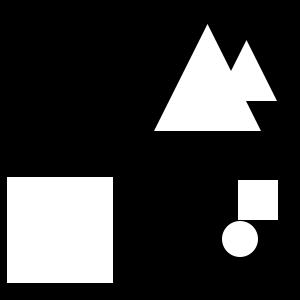circle: (7, 177, 113, 283), (238, 180, 278, 220)
rectangle: (222, 221, 258, 257)
triangle: (154, 24, 261, 131), (216, 40, 277, 101)
